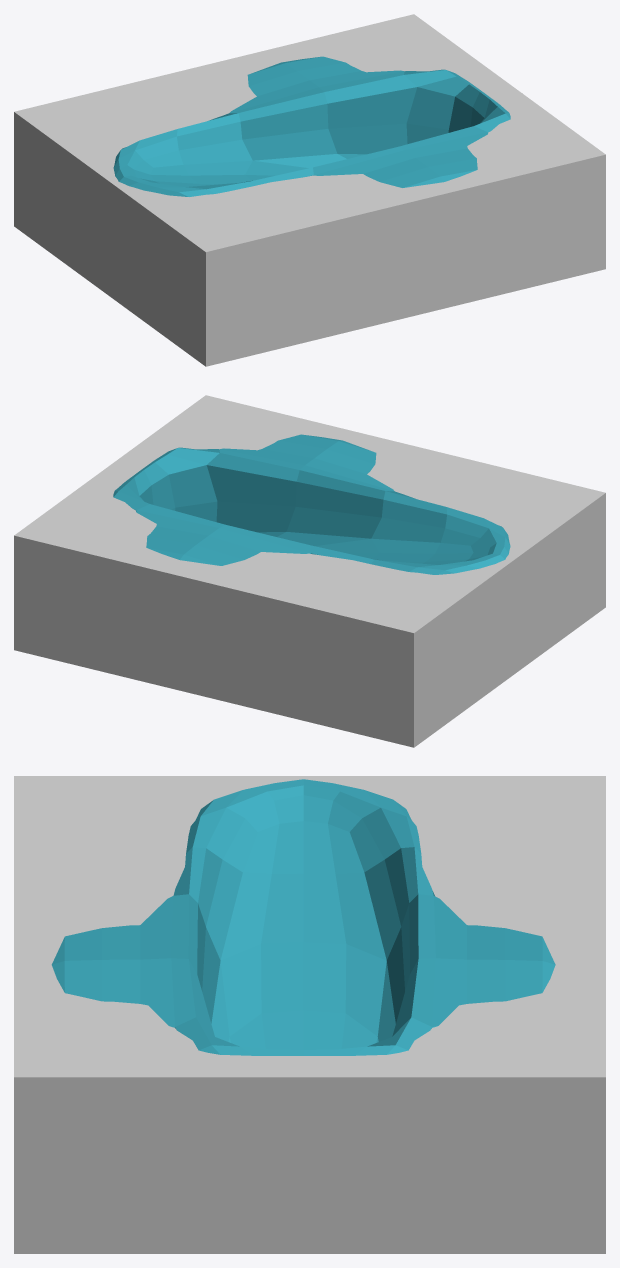
3 renders of one model, top to bottom at view 1: azimuth 30°, elevation 25°; view 2: azimuth 150°, elevation 25°; view 3: azimuth 270°, elevation 25°, orthographic. The views are drawn at different scales.
Visible parts, largest first — view 1: Cube.049, Cube.048; view 2: Cube.049, Cube.048; view 3: Cube.049, Cube.048.
Boxes of the visible parts, x1,y1,x2,y2 form: Cube.049: (14,14,605,366); Cube.048: (113,56,510,196); Cube.049: (14,395,605,747); Cube.048: (113,434,510,574); Cube.049: (14,776,605,1253); Cube.048: (51,779,555,1055).
Size of the model in its own units: 115 by 32.57 by 95.66.
